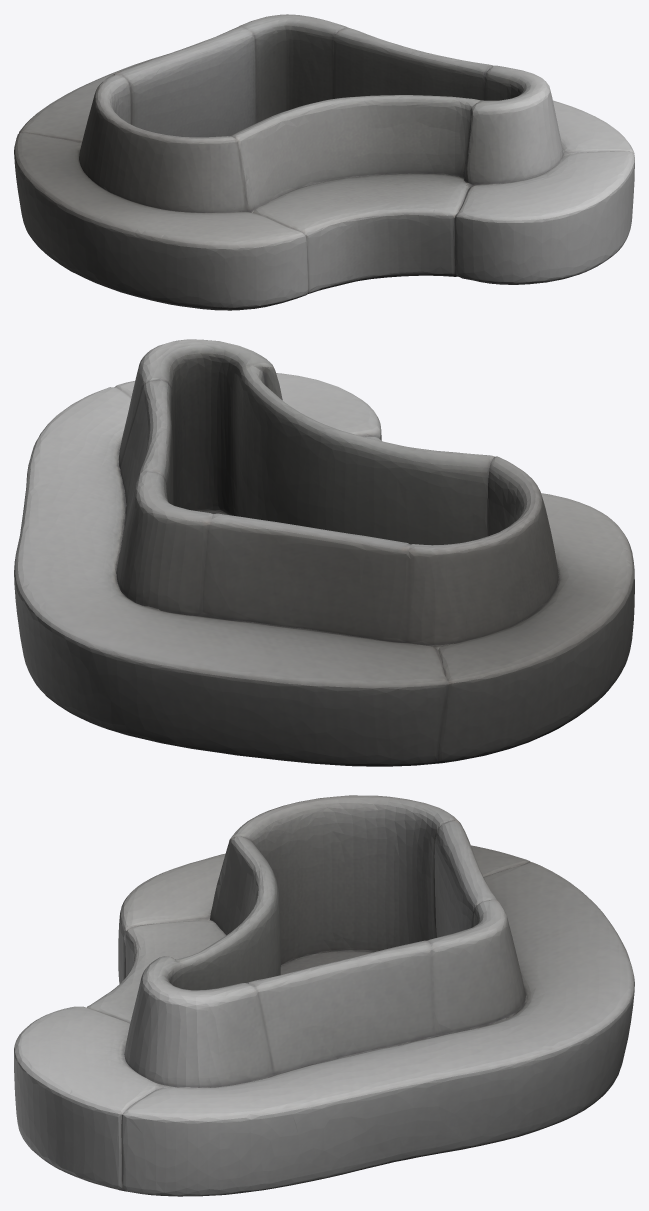
The model's file is Sofa V1.fbx.
3 renders of one model, top to bottom at view 1: azimuth 30°, elevation 25°; view 2: azimuth 150°, elevation 25°; view 3: azimuth 270°, elevation 25°, orthographic. The views are drawn at different scales.
Parts seen in each view (by area): view 1: world; view 2: world; view 3: world.
Boxes of the visible parts, x1,y1,x2,y2 form: world: (14,14,634,310); world: (14,339,634,766); world: (14,795,634,1196).
Size of the model in its own units: 0.9981 by 0.266 by 0.9227.
Materials: 1 (1 with a texture image).
